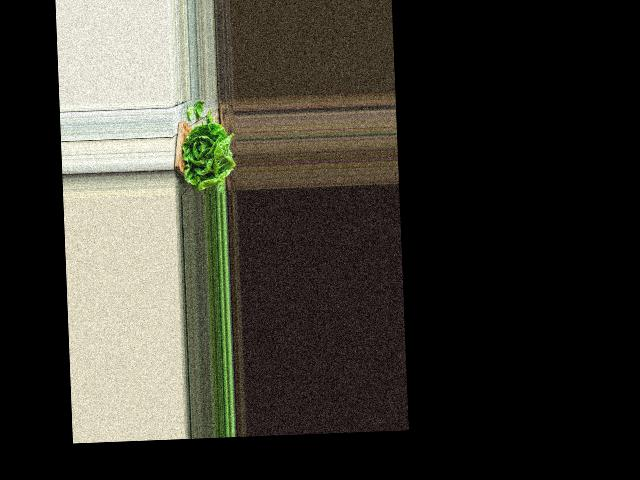lettuce: (178, 125, 234, 192)
